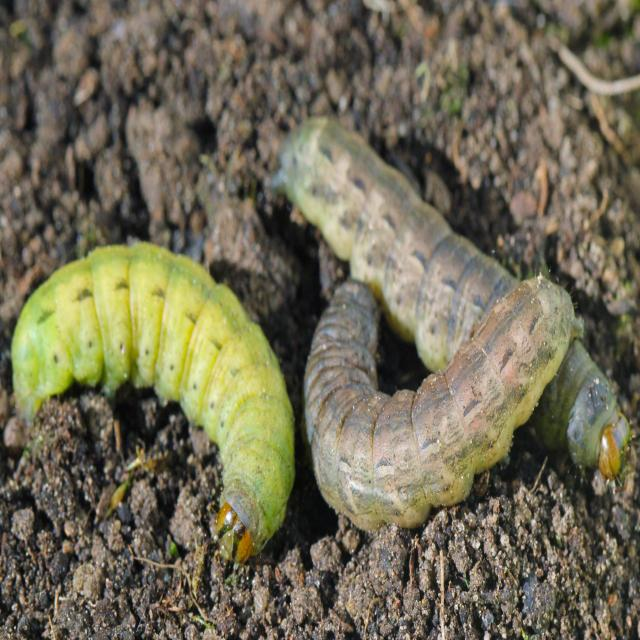cutworm: (252, 96, 631, 491), (2, 232, 304, 586), (302, 243, 578, 565)
